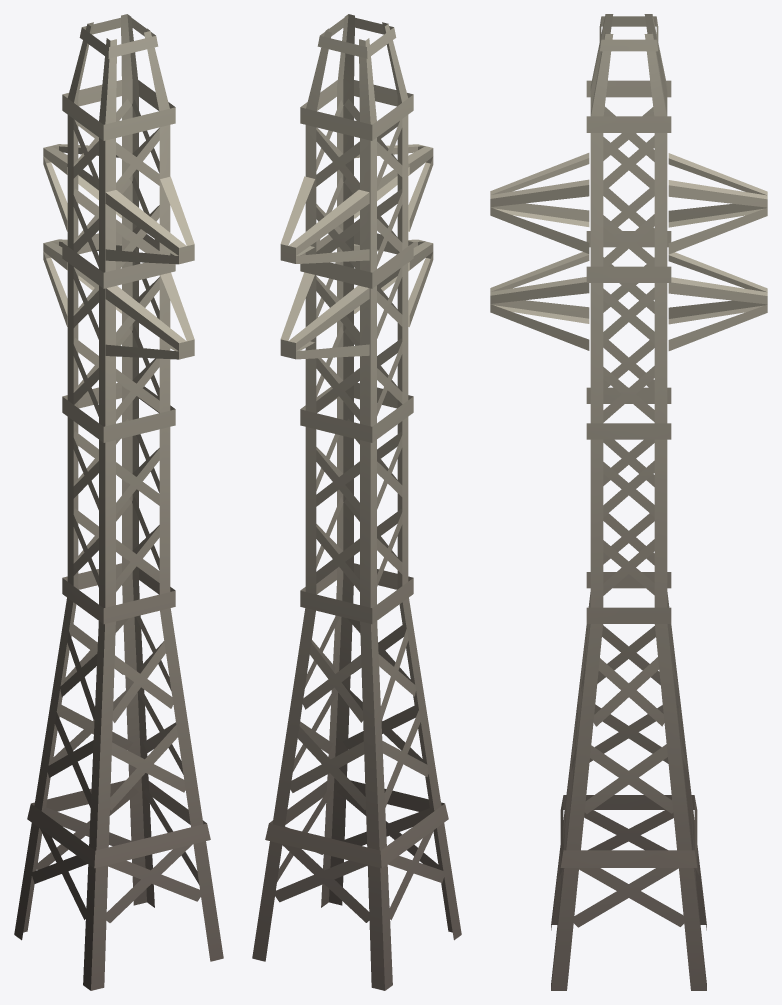
The model's file is SM_Electric_Pole_01.fbx.
The picture shows the model from 3 angles, left to right: view 1: azimuth 30°, elevation 25°; view 2: azimuth 150°, elevation 25°; view 3: azimuth 270°, elevation 25°; orthographic projection.
Visible parts, largest first — view 1: SM_Electric_Pole_01; view 2: SM_Electric_Pole_01; view 3: SM_Electric_Pole_01.
Part boxes in pixels (x1=…): SM_Electric_Pole_01: x1=14, y1=14, x2=223, y2=990; SM_Electric_Pole_01: x1=252, y1=14, x2=461, y2=990; SM_Electric_Pole_01: x1=490, y1=14, x2=767, y2=990.
Size of the model in its own units: 0.5926 by 3.92 by 1.06.
